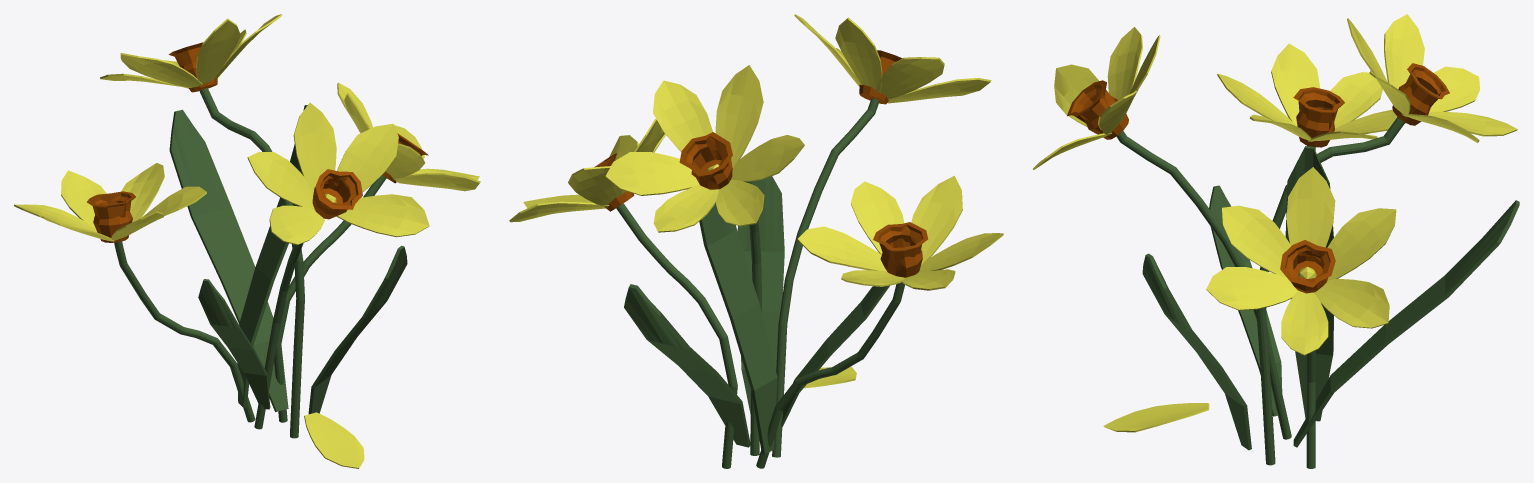
Rendered from daffodil.fbx.
3 views of the same model, side by side, from view 1: azimuth 30°, elevation 25°; view 2: azimuth 150°, elevation 25°; view 3: azimuth 270°, elevation 25° (orthographic). The views are drawn at different scales.
Parts seen in each view (by area): view 1: daffodil_plant, daffodil_fallen_petal; view 2: daffodil_plant, daffodil_fallen_petal; view 3: daffodil_plant, daffodil_fallen_petal.
Part boxes in pixels (x1,y1,x2,y2): daffodil_plant: (14,14,480,438); daffodil_fallen_petal: (304,412,364,468); daffodil_plant: (509,14,1003,468); daffodil_fallen_petal: (795,366,856,388); daffodil_plant: (1033,14,1519,468); daffodil_fallen_petal: (1103,403,1209,432).
Size of the model in its own units: 120 by 103 by 106.
